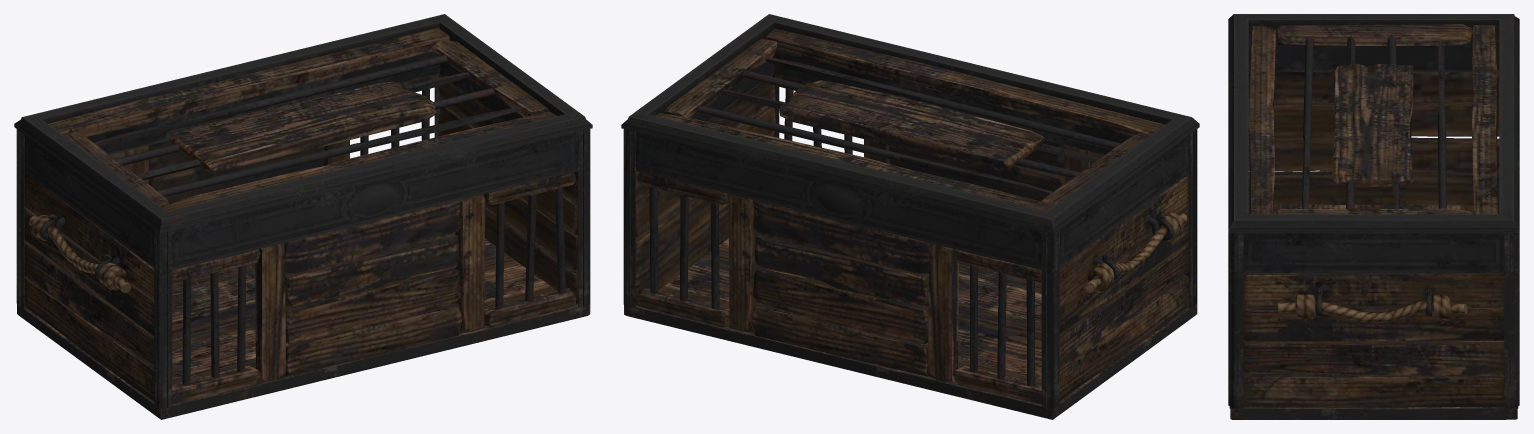
File: component_box_charcoal.glb
3 renders of one model, left to right at view 1: azimuth 30°, elevation 25°; view 2: azimuth 150°, elevation 25°; view 3: azimuth 270°, elevation 25°, orthographic.
Visible parts, largest first — view 1: component_box_charcoal; view 2: component_box_charcoal; view 3: component_box_charcoal.
Boxes of the visible parts, x1,y1,x2,y2 form: component_box_charcoal: (14, 14, 592, 419); component_box_charcoal: (621, 14, 1199, 419); component_box_charcoal: (1228, 14, 1519, 419).
Bounding box in the file's own units: 1.96 × 0.7908 × 1.05.
Materials: 1 (1 with a texture image).
